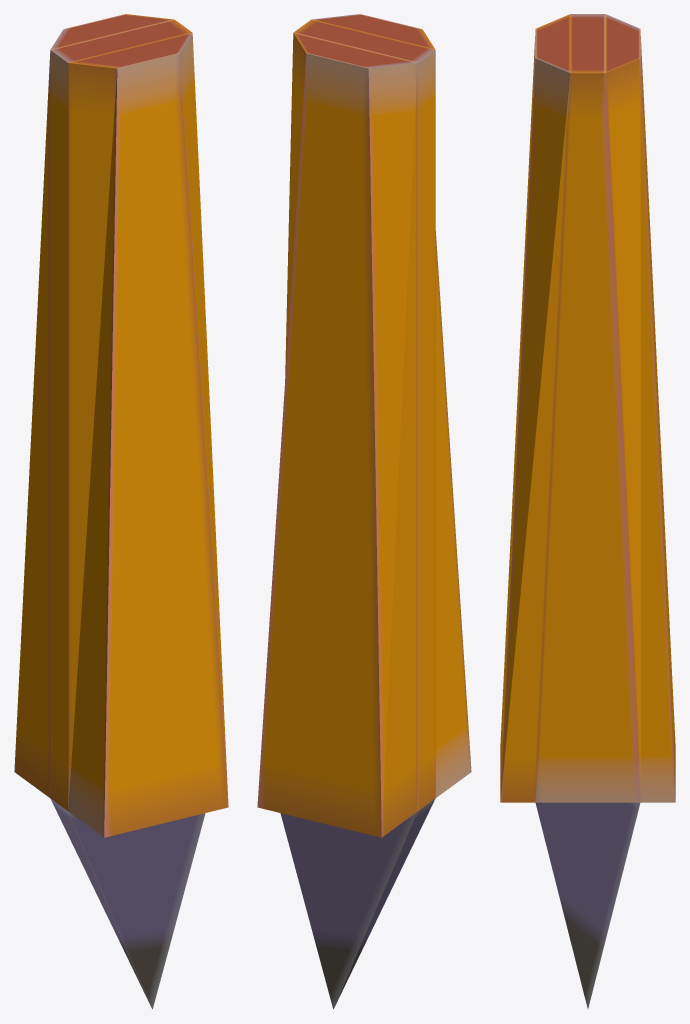
Rendered from pen.obj.
3 renders of one model, left to right at view 1: azimuth 30°, elevation 25°; view 2: azimuth 150°, elevation 25°; view 3: azimuth 270°, elevation 25°, orthographic. The views are drawn at different scales.
Visible parts, largest first — view 1: pen; view 2: pen; view 3: pen.
Boxes of the visible parts, x1,y1,x2,y2 form: pen: [14, 14, 228, 1009]; pen: [257, 14, 471, 1009]; pen: [500, 14, 675, 1008].
Size of the model in its own units: 1 by 7.5 by 1.25.
Materials: 1 (1 with a texture image).
